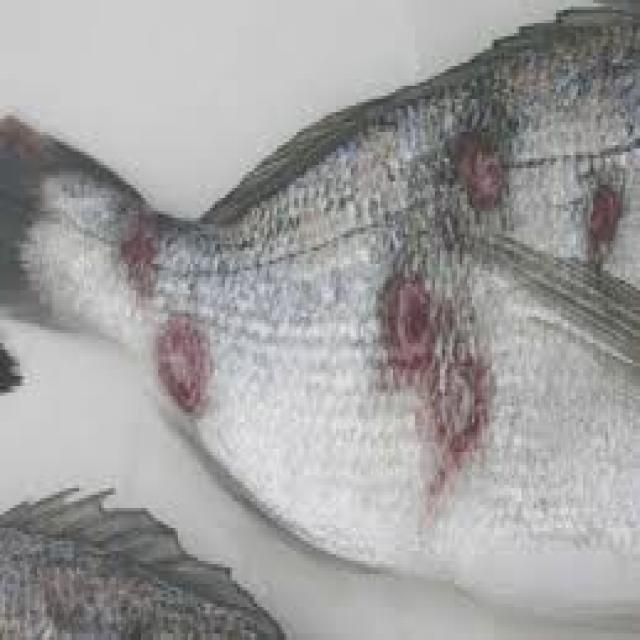EUS Disease: (0, 1, 640, 640), (106, 121, 637, 514)
